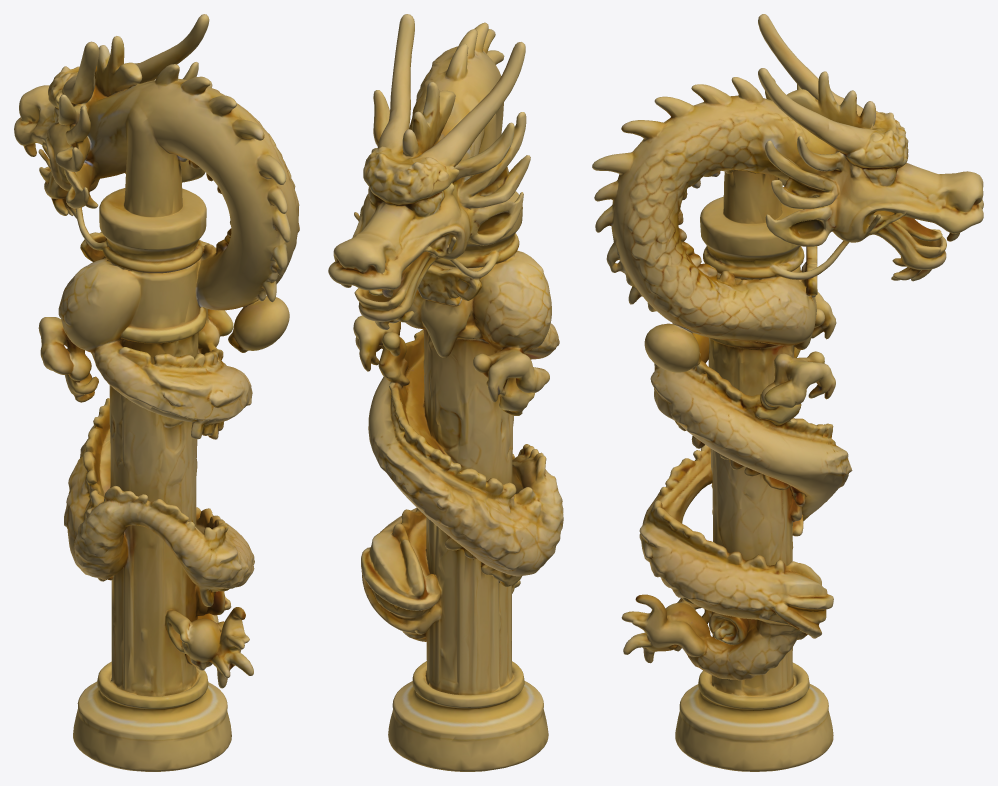
The model's file is plaza-statue-dragon-east.glb.
3 views of the same model, side by side, from view 1: azimuth 30°, elevation 25°; view 2: azimuth 150°, elevation 25°; view 3: azimuth 270°, elevation 25° (orthographic). The views are drawn at different scales.
Visible parts, largest first — view 1: tripo_node_e2d9a8b6-2482-46cc-b296-e9a2a25cf638; view 2: tripo_node_e2d9a8b6-2482-46cc-b296-e9a2a25cf638; view 3: tripo_node_e2d9a8b6-2482-46cc-b296-e9a2a25cf638.
Boxes of the visible parts, x1,y1,x2,y2 form: tripo_node_e2d9a8b6-2482-46cc-b296-e9a2a25cf638: (14,14,299,771); tripo_node_e2d9a8b6-2482-46cc-b296-e9a2a25cf638: (328,14,563,771); tripo_node_e2d9a8b6-2482-46cc-b296-e9a2a25cf638: (592,14,983,771).
Size of the model in its own units: 1.62 by 6 by 3.05.
1 material, 1 textured.
